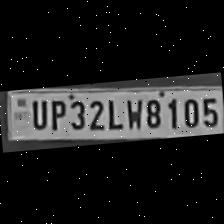0: (178, 94, 200, 128)
1: (162, 95, 180, 129)
2: (84, 95, 106, 131)
3: (65, 94, 87, 130)
5: (198, 92, 220, 128)
8: (140, 94, 164, 129)
L: (103, 96, 123, 130)
P: (45, 94, 67, 130)
U: (27, 95, 50, 130)
W: (121, 94, 143, 130)
